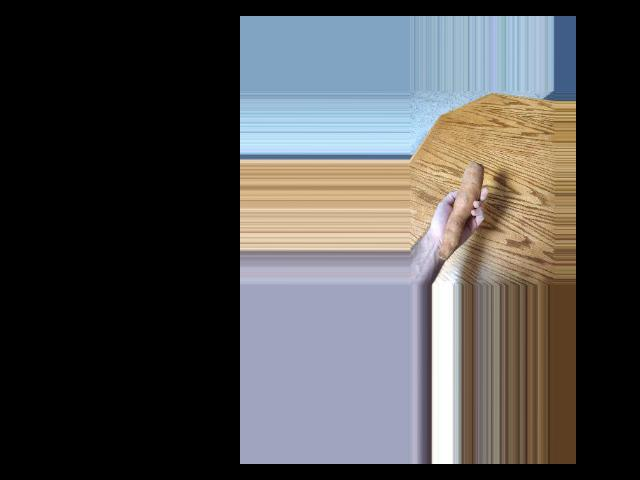sweet_potato: (435, 160, 486, 261)
